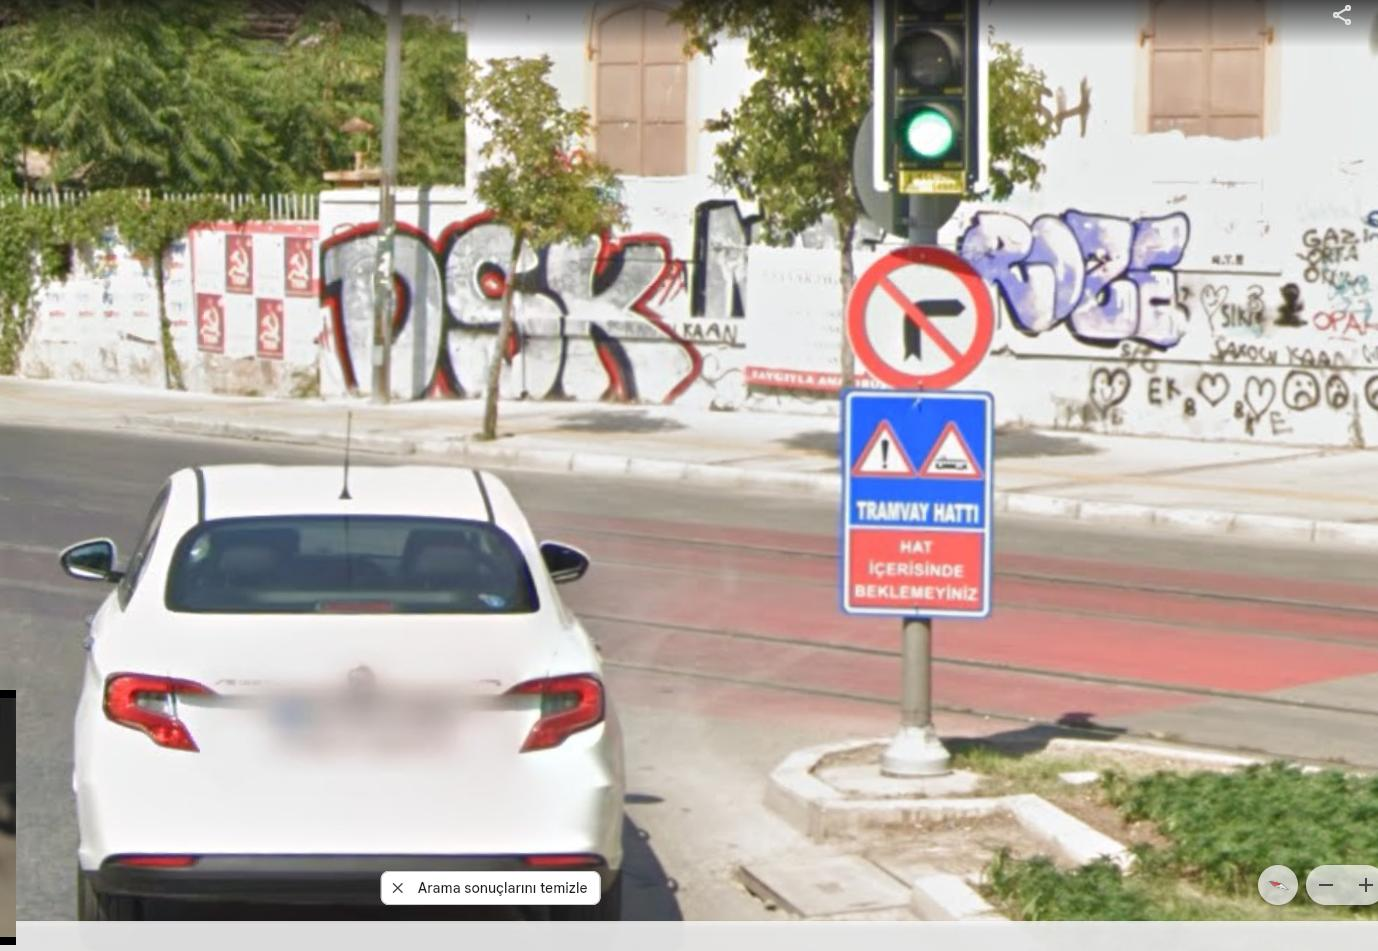greenlight: (875, 3, 974, 172)
rightturnsareforbidden: (855, 255, 992, 380)
